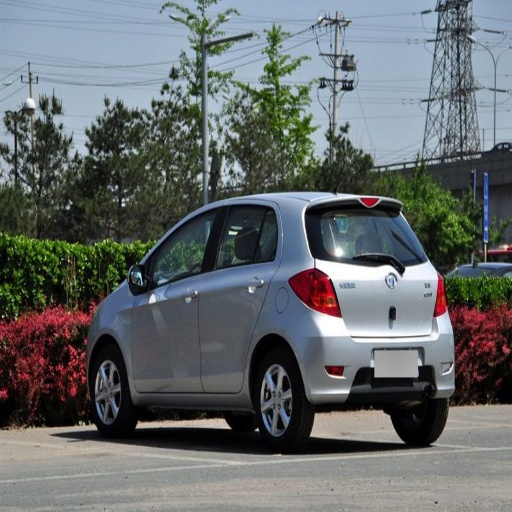back_bumper: (289, 309, 453, 405)
back_glass: (306, 205, 427, 265)
back_left_door: (199, 204, 274, 392)
tailgate: (320, 262, 423, 335)
trunk: (313, 265, 438, 341)
